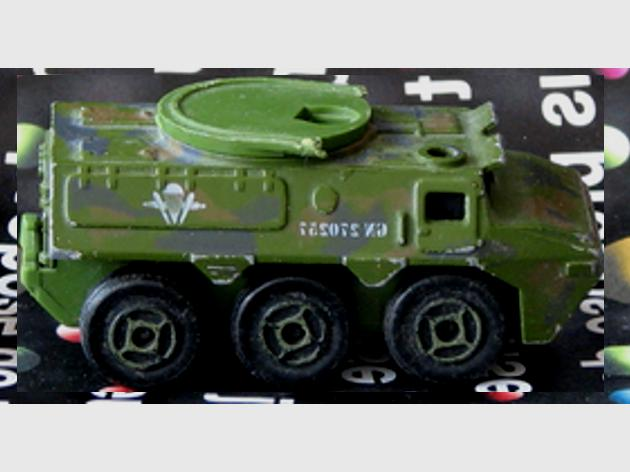toy-car: (18, 76, 605, 393)
